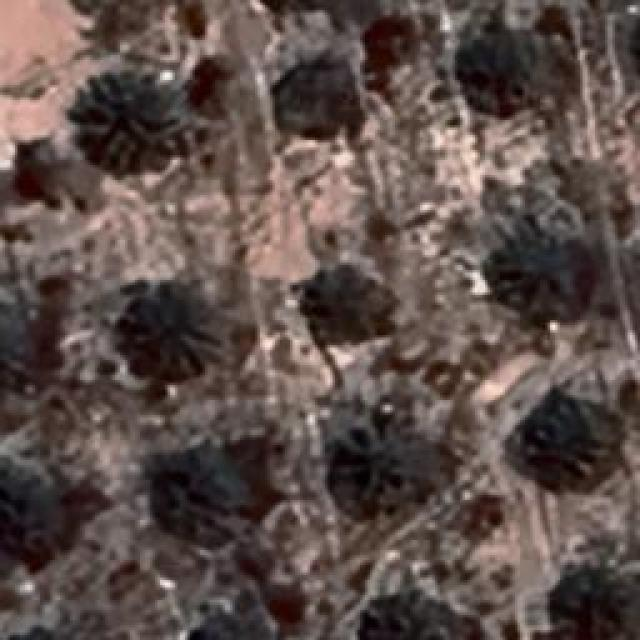PalmTree: (68, 65, 180, 173), (154, 444, 242, 538), (498, 221, 586, 311), (284, 58, 372, 134), (310, 267, 390, 345), (0, 438, 60, 542), (538, 398, 612, 480), (458, 30, 536, 105), (334, 420, 408, 498), (125, 286, 207, 354), (0, 290, 54, 393), (560, 575, 640, 640), (178, 594, 278, 638), (358, 597, 453, 640)
